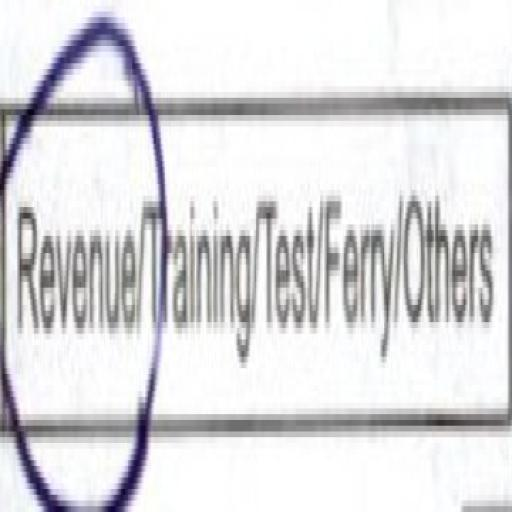check: (3, 30, 145, 507)
